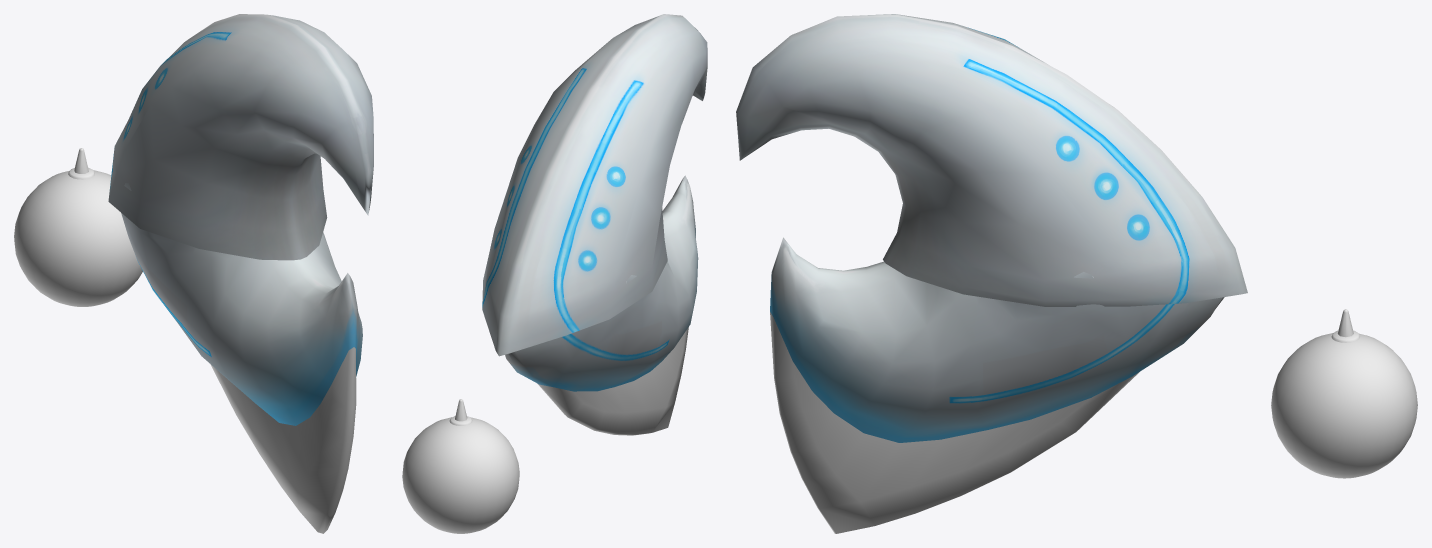
The model's file is sunfish.fbx.
3 renders of one model, left to right at view 1: azimuth 30°, elevation 25°; view 2: azimuth 150°, elevation 25°; view 3: azimuth 270°, elevation 25°, orthographic. The views are drawn at different scales.
Parts seen in each view (by area): view 1: Sunfish Top.001, Sunfish Base.001, Shell, Spike; view 2: Sunfish Top.001, Sunfish Base.001, Shell; view 3: Sunfish Top.001, Sunfish Base.001, Shell.
Part boxes in pixels (x1=…): Sunfish Top.001: x1=108, y1=14, x2=373, y2=260; Sunfish Base.001: x1=121, y1=183, x2=362, y2=533; Shell: x1=14, y1=170, x2=142, y2=306; Spike: x1=68, y1=148, x2=94, y2=179; Sunfish Top.001: x1=482, y1=14, x2=707, y2=356; Sunfish Base.001: x1=505, y1=175, x2=698, y2=435; Shell: x1=402, y1=417, x2=519, y2=533; Sunfish Top.001: x1=736, y1=14, x2=1247, y2=306; Sunfish Base.001: x1=770, y1=237, x2=1224, y2=533; Shell: x1=1271, y1=333, x2=1417, y2=478.
Size of the model in its own units: 0.9469 by 2.62 by 3.11.
